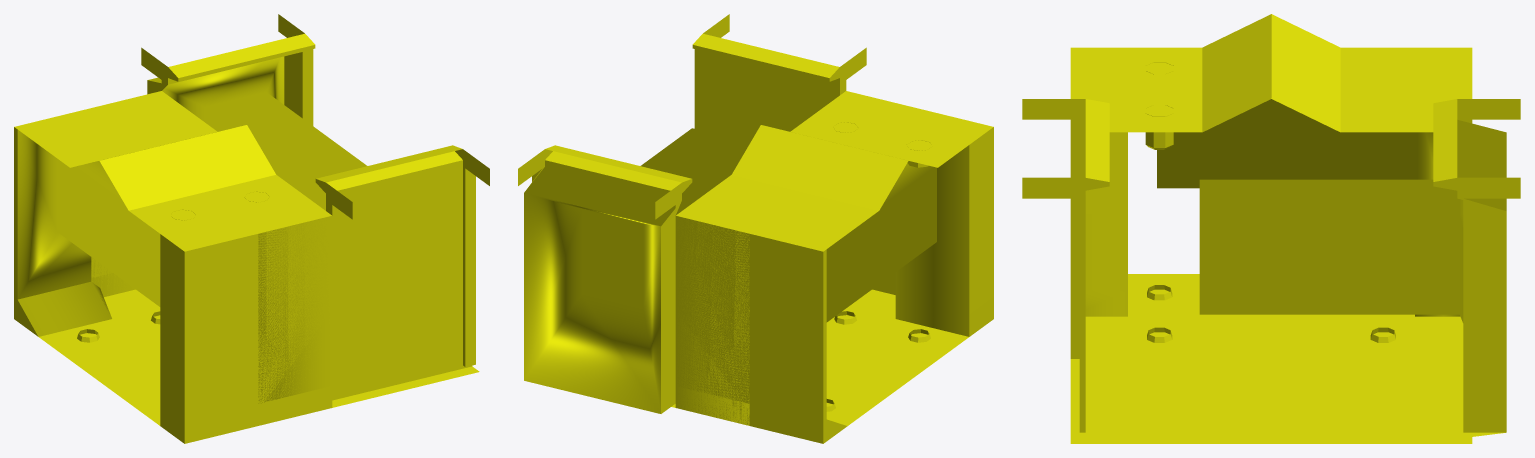
The model's file is usame2.fbx.
3 views of the same model, side by side, from view 1: azimuth 30°, elevation 25°; view 2: azimuth 150°, elevation 25°; view 3: azimuth 270°, elevation 25° (orthographic). The views are drawn at different scales.
Parts seen in each view (by area): view 1: usame2; view 2: usame2; view 3: usame2.
Boxes of the visible parts, x1,y1,x2,y2 form: usame2: (14,14,489,443); usame2: (518,14,993,443); usame2: (1022,14,1520,443).
Bounding box in the file's own units: 14 × 10 × 17.36.
